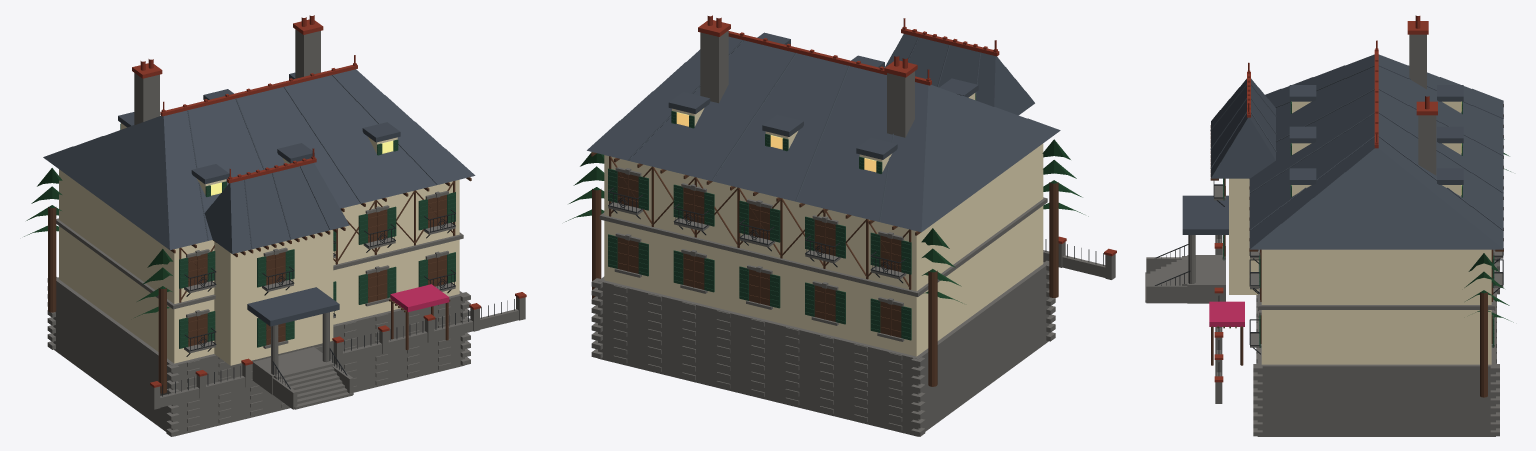
File: fv_thd_08_villa_19_brittany_manor.glb
3 renders of one model, left to right at view 1: azimuth 30°, elevation 25°; view 2: azimuth 150°, elevation 25°; view 3: azimuth 270°, elevation 25°, orthographic. The views are drawn at different scales.
Parts seen in each view (by area): view 1: marseille_corrugated_roof_tiles, granite_foundation_and_stairs, stucco_facade_and_dormers, colombage_timber_and_eaves, pine_green_louvered_shutters, ridge_cresting_and_chimneys, wrought_iron_balconies_3d, pine_trees_and_garden_hedges, bougainvillea_pergola_clusters; view 2: marseille_corrugated_roof_tiles, granite_foundation_and_stairs, stucco_facade_and_dormers, colombage_timber_and_eaves, pine_green_louvered_shutters, ridge_cresting_and_chimneys, pine_trees_and_garden_hedges, wrought_iron_balconies_3d; view 3: marseille_corrugated_roof_tiles, stucco_facade_and_dormers, granite_foundation_and_stairs, colombage_timber_and_eaves, ridge_cresting_and_chimneys, bougainvillea_pergola_clusters, wrought_iron_balconies_3d, pine_green_louvered_shutters, pine_trees_and_garden_hedges.
Part boxes in pixels (x1,y1,x2,y2): marseille_corrugated_roof_tiles: (43,69,475,326); granite_foundation_and_stairs: (47,29,525,436); stucco_facade_and_dormers: (59,123,459,365); colombage_timber_and_eaves: (48,177,471,393); pine_green_louvered_shutters: (120,123,455,348); ridge_cresting_and_chimneys: (132,15,526,387); wrought_iron_balconies_3d: (162,209,514,396); pine_trees_and_garden_hedges: (24,168,172,317); bougainvillea_pergola_clusters: (390,284,449,312); marseille_corrugated_roof_tiles: (587,32,1060,232); granite_foundation_and_stairs: (591,31,1115,436); stucco_facade_and_dormers: (604,93,1043,356); colombage_timber_and_eaves: (591,152,1058,386); pine_green_louvered_shutters: (608,93,975,340); ridge_cresting_and_chimneys: (698,15,1116,256); pine_trees_and_garden_hedges: (565,139,1088,303); wrought_iron_balconies_3d: (608,187,1103,283); marseille_corrugated_roof_tiles: (1182,54,1503,249); stucco_facade_and_dormers: (1229,101,1491,364); granite_foundation_and_stairs: (1145,34,1503,436); colombage_timber_and_eaves: (1210,104,1503,397); ridge_cresting_and_chimneys: (1214,15,1437,382); bougainvillea_pergola_clusters: (1209,301,1244,326); wrought_iron_balconies_3d: (1154,181,1503,375); pine_green_louvered_shutters: (1223,101,1494,347); pine_trees_and_garden_hedges: (1464,139,1513,322).
Bounding box in the file's own units: 26.12 × 20.43 × 22.91.
